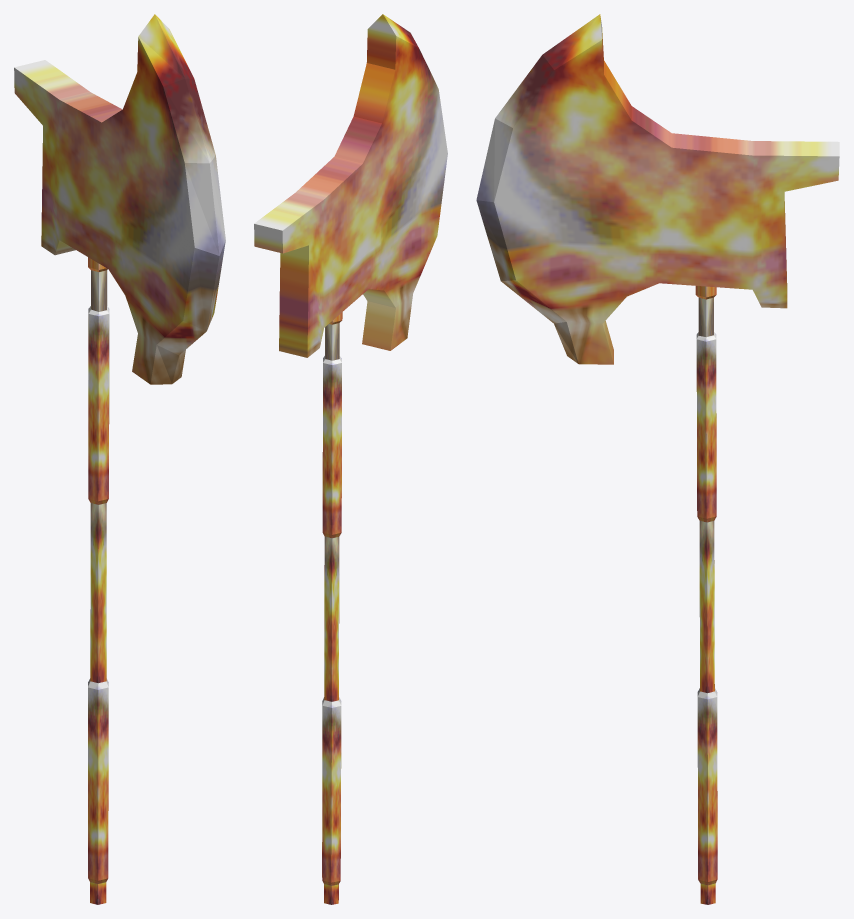
The model's file is heavyaxeman00_3.obj.
3 views of the same model, side by side, from view 1: azimuth 30°, elevation 25°; view 2: azimuth 150°, elevation 25°; view 3: azimuth 270°, elevation 25° (orthographic). The views are drawn at different scales.
Visible parts, largest first — view 1: heavyaxeman00_3; view 2: heavyaxeman00_3; view 3: heavyaxeman00_3.
Boxes of the visible parts, box(x1,y1,x2,y2) form: heavyaxeman00_3: box(14, 14, 225, 904); heavyaxeman00_3: box(254, 14, 447, 904); heavyaxeman00_3: box(476, 14, 839, 904).
Bounding box in the file's own units: 0.09 × 2.56 × 0.95.
